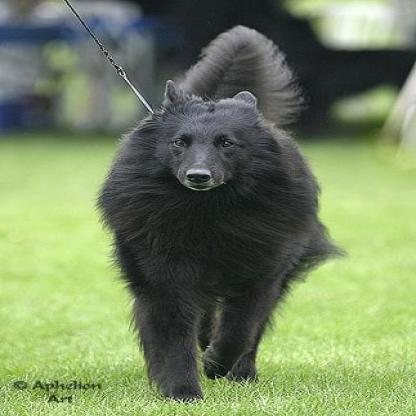groenendael: (95, 22, 349, 401)
